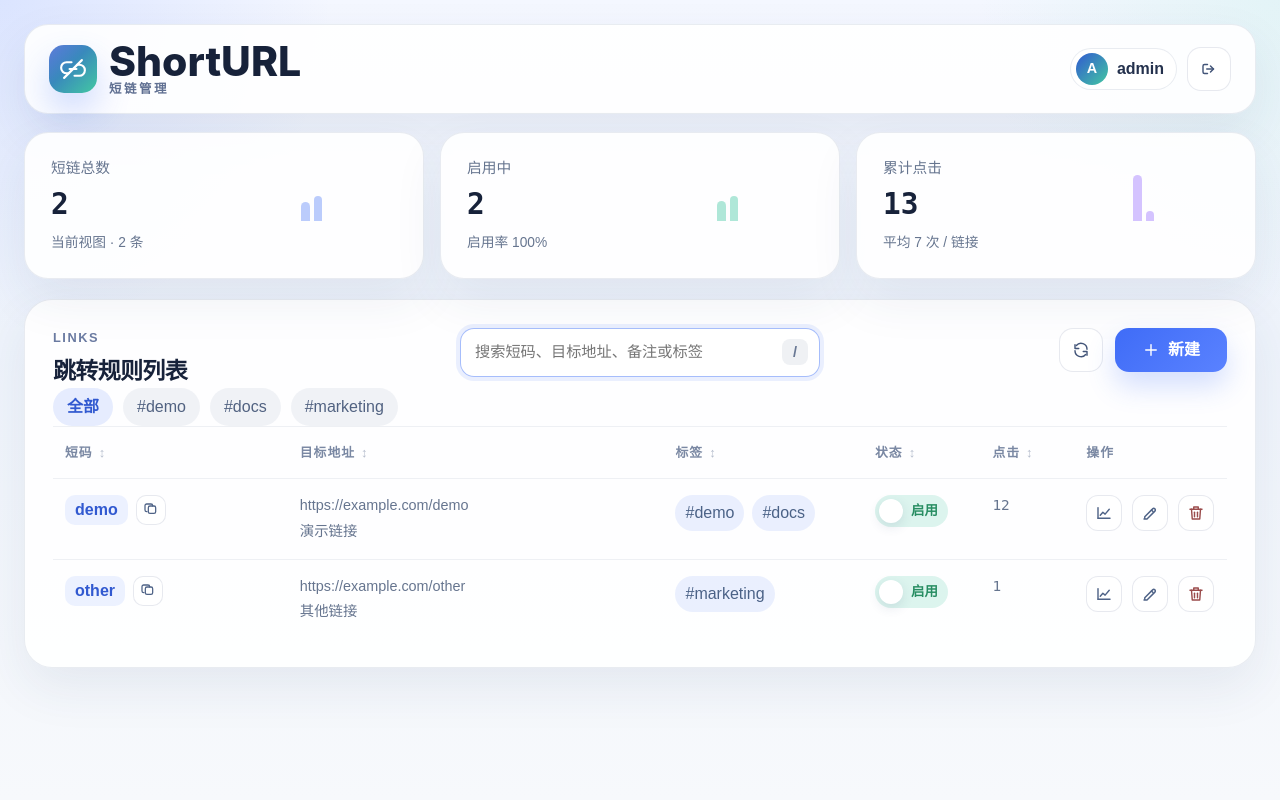
Test: LinksPage › sorts links when a table header is clicked
Click the button "点击 ↕": [1013, 453] box [992,443,1034,462]
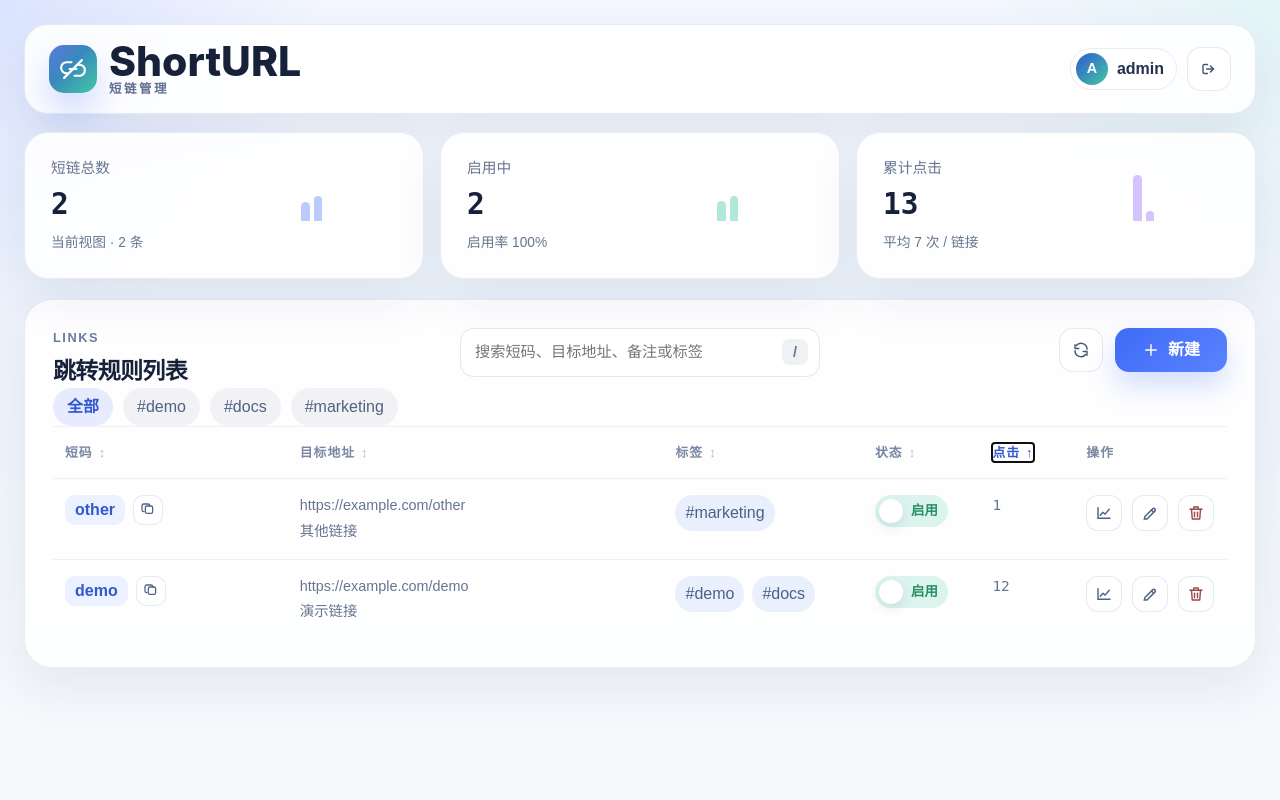
Now the links read "other", "demo", in this order, box [65,495,125,525]; [65,576,128,606]
Click the button "点击 ↑": [1013, 453] box [992,443,1034,462]
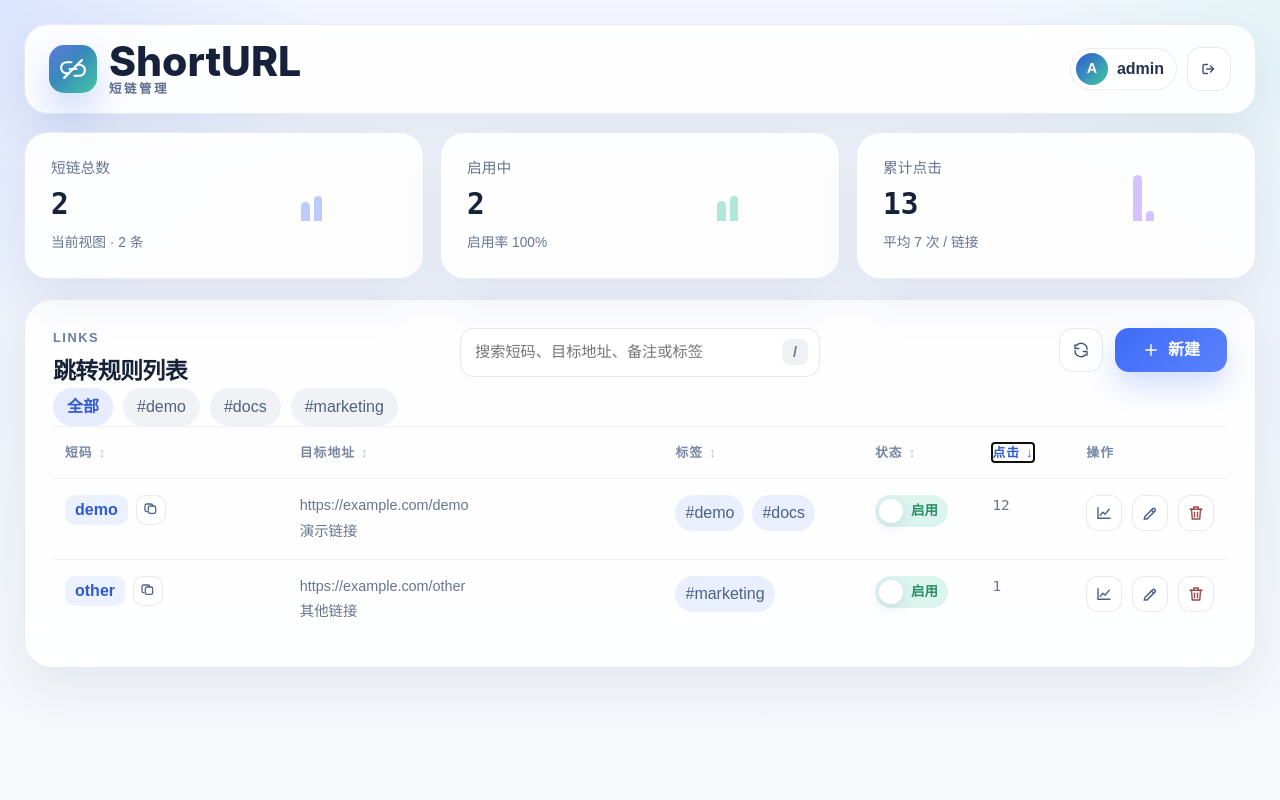
Now the links read "demo", "other", in this order, box [65,495,128,525]; [65,576,125,606]
